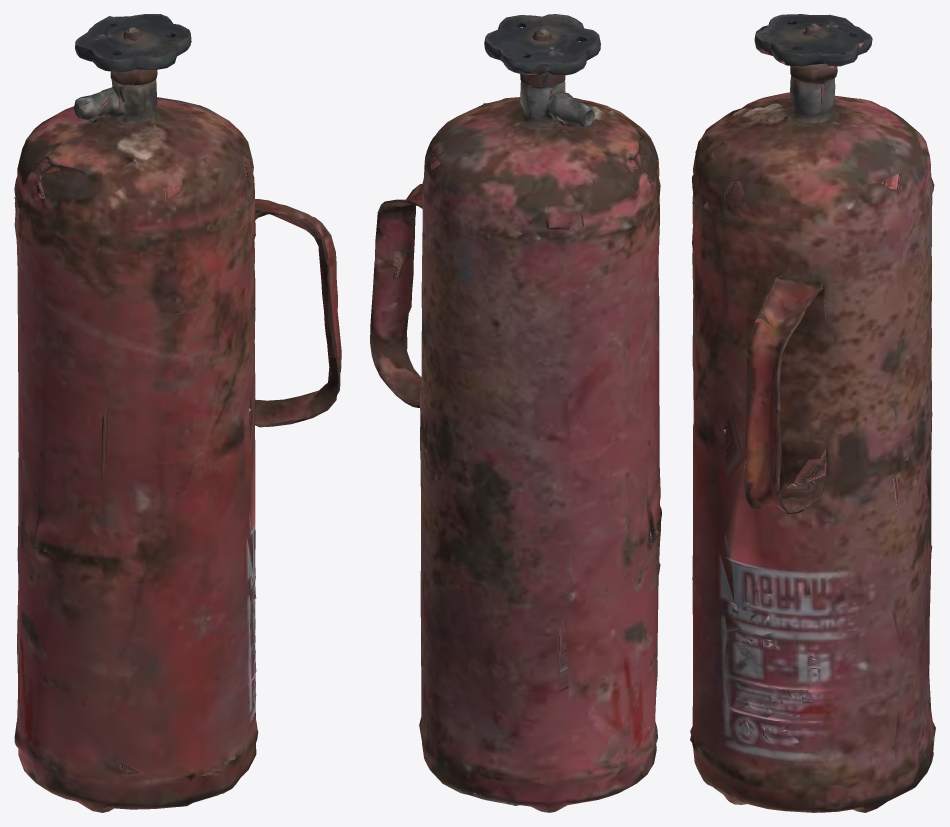
Rendered from fire_extinguisher_old_rusty_3d_scan.glb.
3 renders of one model, left to right at view 1: azimuth 30°, elevation 25°; view 2: azimuth 150°, elevation 25°; view 3: azimuth 270°, elevation 25°, orthographic.
Parts seen in each view (by area): view 1: Object_2; view 2: Object_2; view 3: Object_2.
Boxes of the visible parts, x1=… form: Object_2: x1=14, y1=14, x2=341, y2=812; Object_2: x1=370, y1=14, x2=661, y2=812; Object_2: x1=690, y1=14, x2=935, y2=812.
Bounding box in the file's own units: 0.2714 × 0.653 × 0.1929.
1 material, 1 textured.
